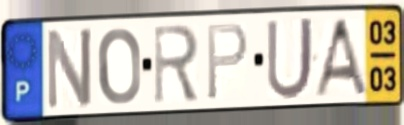A: (310, 15, 370, 99)
N: (44, 25, 94, 114)
O: (95, 25, 143, 108)
P: (205, 20, 251, 103)
R: (152, 22, 202, 107)
U: (265, 14, 316, 103)
